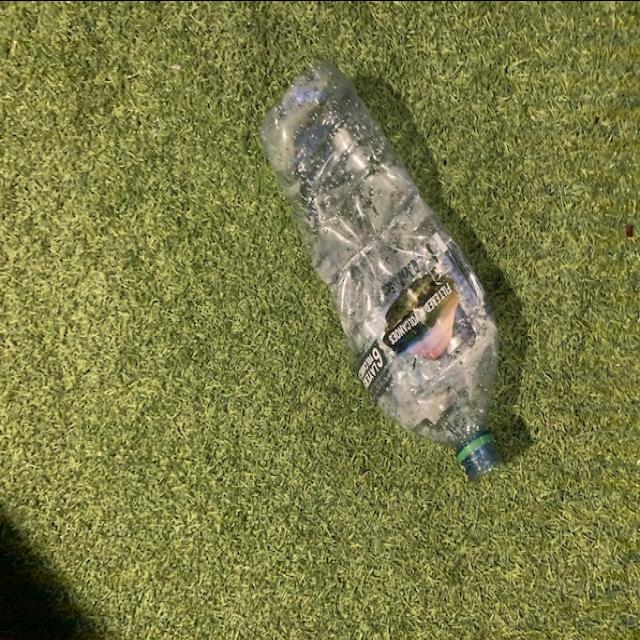litter: (254, 56, 516, 492)
